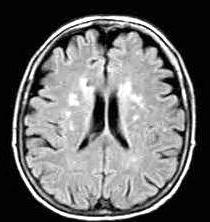Normal_Brain: (1, 1, 203, 209)
